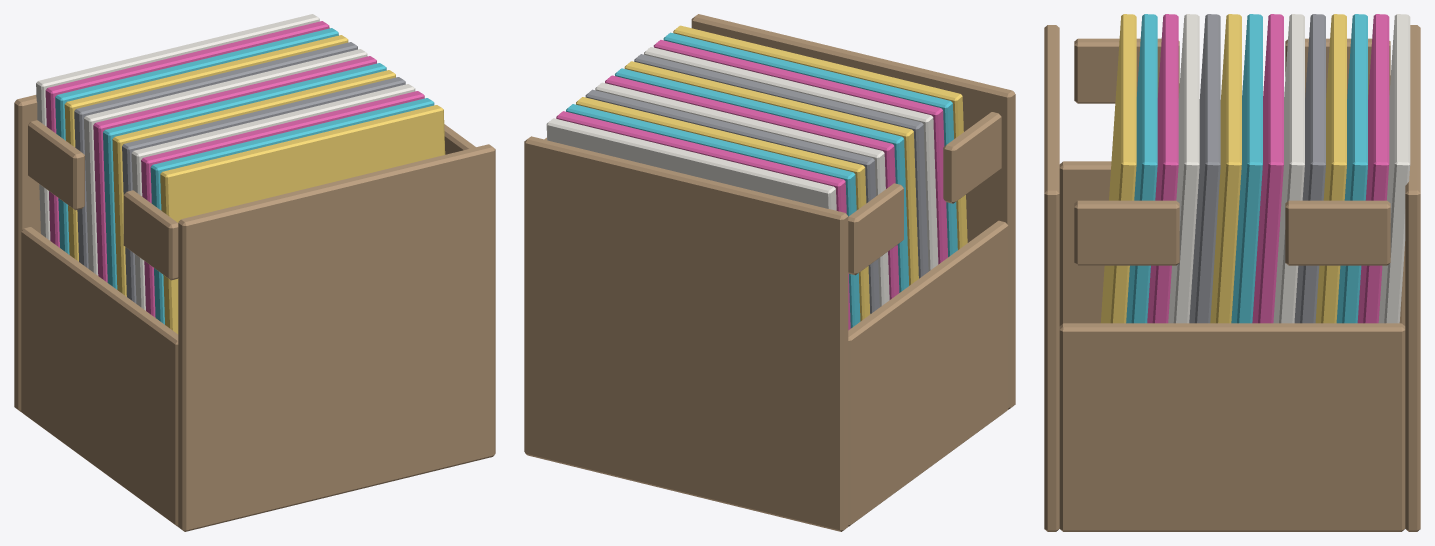
The model's file is nightclub-and-dj-booth-record-crate-5f66d693__34095.glb.
3 views of the same model, side by side, from view 1: azimuth 30°, elevation 25°; view 2: azimuth 150°, elevation 25°; view 3: azimuth 270°, elevation 25° (orthographic). The views are drawn at different scales.
Visible parts, largest first — view 1: record-crate; view 2: record-crate; view 3: record-crate.
Boxes of the visible parts, x1,y1,x2,y2 form: record-crate: (14,14,495,531); record-crate: (524,14,1015,531); record-crate: (1044,14,1420,531).
Bounding box in the file's own units: 0.36 × 0.3597 × 0.34.
